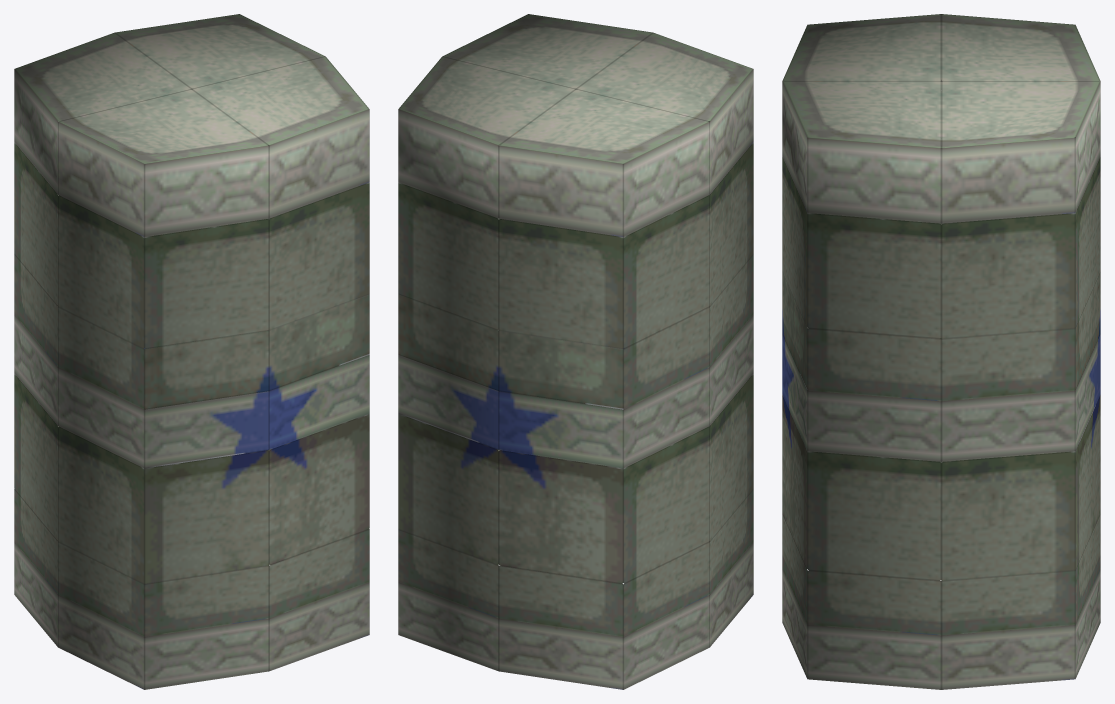
3 views of the same model, side by side, from view 1: azimuth 30°, elevation 25°; view 2: azimuth 150°, elevation 25°; view 3: azimuth 270°, elevation 25° (orthographic). The views are drawn at different scales.
Parts seen in each view (by area): view 1: T1L1M008_4; view 2: T1L1M008_4; view 3: T1L1M008_4.
Part boxes in pixels (<box>): T1L1M008_4: <box>14,14,369,689</box>; T1L1M008_4: <box>398,14,753,689</box>; T1L1M008_4: <box>782,14,1100,689</box>.
Size of the model in its own units: 2.13 by 4 by 2.13.
